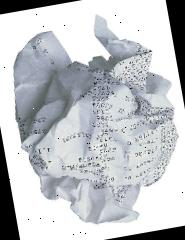paper: (0, 2, 185, 237)
